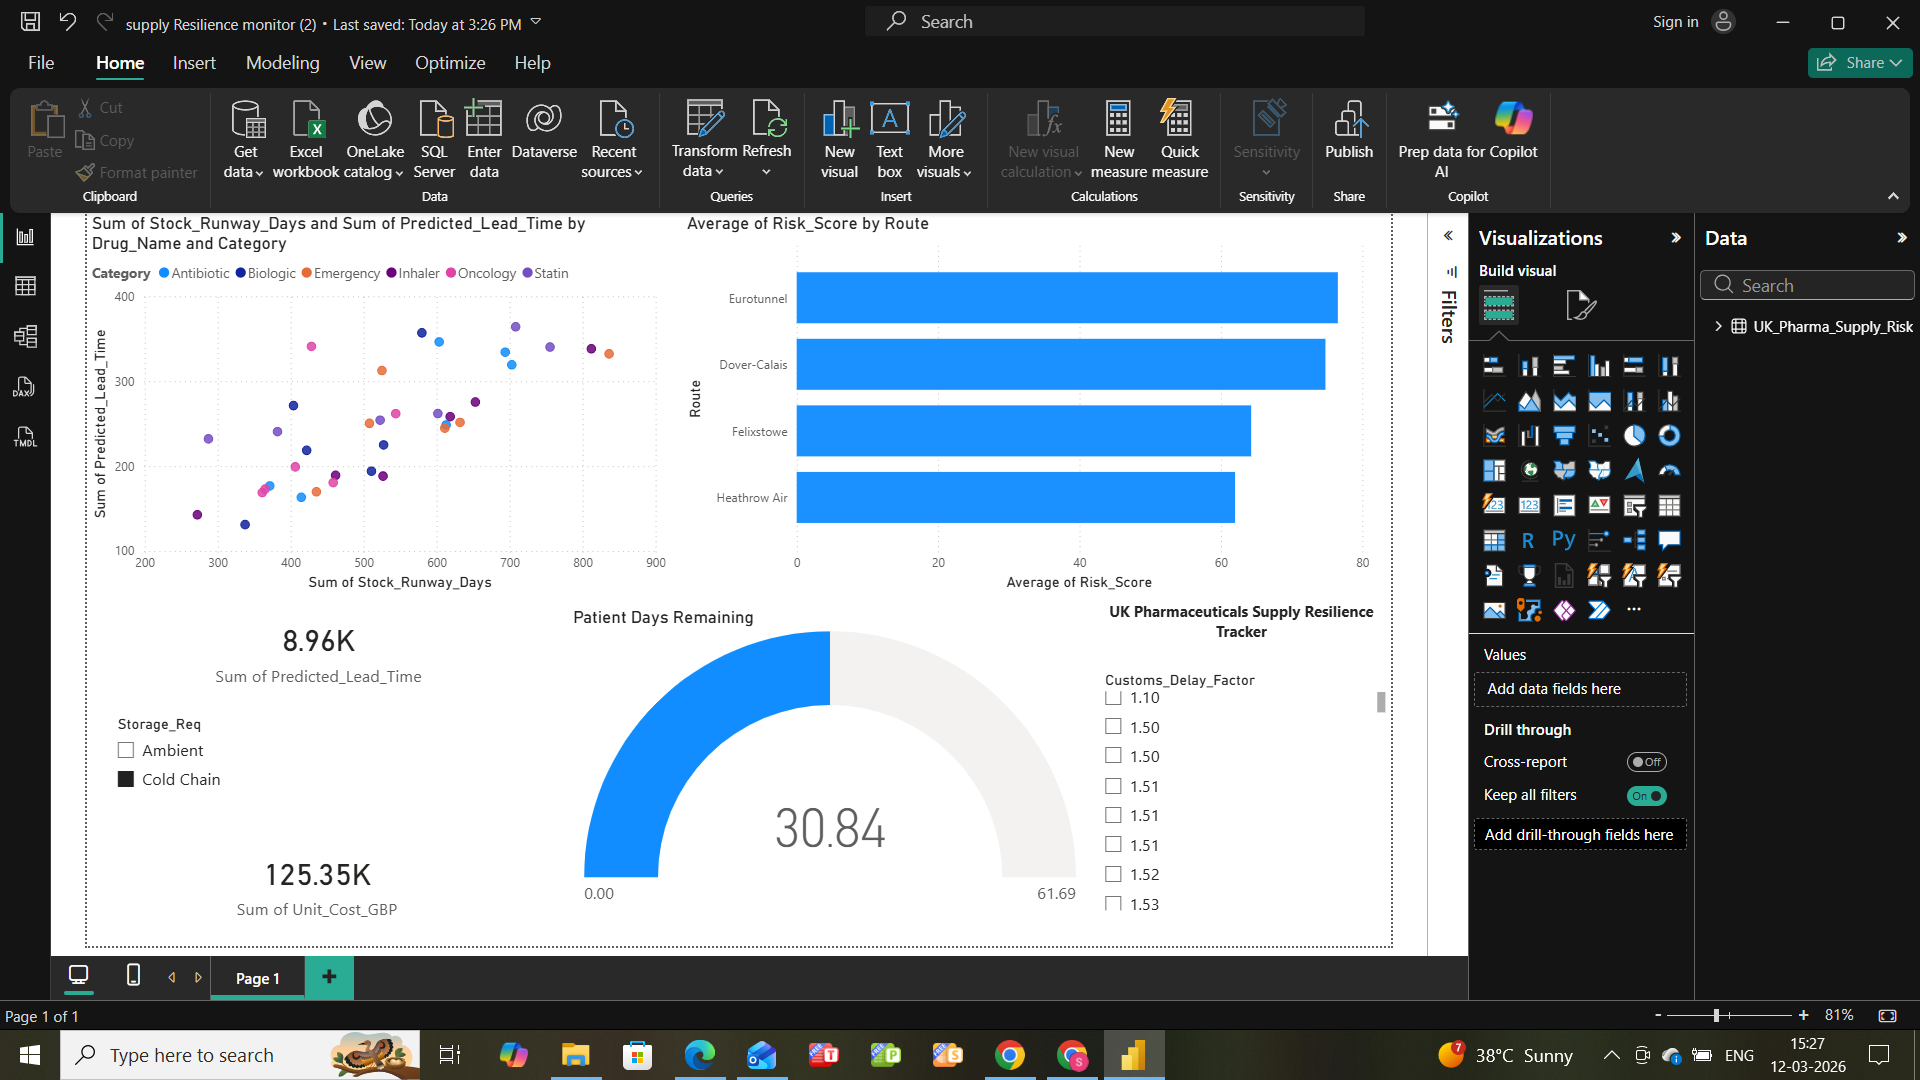

What the dashboard file says about the page in this screenshot:
{"tool":"powerbi","page":{"name":"Page 1","canvas":[1280,720],"ordinal":0},"visuals":[{"type":"scatterChart","fields":{"X":["Sum(UK_Pharma_Supply_Risk.Stock_Runway_Days)"],"Y":["Sum(UK_Pharma_Supply_Risk.Predicted_Lead_Time)"],"Category":["UK_Pharma_Supply_Risk.Drug_Name"],"Series":["UK_Pharma_Supply_Risk.Category"]},"box":[0,0,573.3,375.6],"z":0},{"type":"clusteredBarChart","fields":{"Y":["Avg(UK_Pharma_Supply_Risk.Risk_Score)"],"Category":["UK_Pharma_Supply_Risk.Route"]},"box":[584.4,0,680,375.6],"z":1000},{"type":"card","fields":{"Values":["Sum(UK_Pharma_Supply_Risk.Unit_Cost_GBP)"]},"box":[0,610,452.2,97.8],"z":2000},{"type":"card","fields":{"Values":["Sum(UK_Pharma_Supply_Risk.Predicted_Lead_Time)"]},"box":[3.3,375.6,447.8,107.8],"z":3000},{"type":"slicer","fields":{"Values":["UK_Pharma_Supply_Risk.Storage_Req"]},"box":[16.7,488.9,435.6,133.3],"z":4000},{"type":"gauge","fields":{"Y":["UK_Pharma_Supply_Risk.Patient Days Remaining"]},"box":[472.2,386.7,514.4,302.2],"z":5000},{"type":"textbox","box":[986.7,375.6,293.3,68.9],"z":6000},{"type":"slicer","fields":{"Values":["UK_Pharma_Supply_Risk.Customs_Delay_Factor"]},"box":[987,445,293,244],"z":6001}]}

Visuals, with their boxes on the page's 1280x720 design canvas (x1, y1, x2, y2). These are canvas units, not pixel positions in the 1920x1080 screenshot, which may show the page scaled, cropped or inside an application window:
scatterChart - Sum(UK_Pharma_Supply_Risk.Stock_Runway_Days) x Sum(UK_Pharma_Supply_Risk.Predicted_Lead_Time): region(0, 0, 573, 376)
clusteredBarChart - Avg(UK_Pharma_Supply_Risk.Risk_Score) x UK_Pharma_Supply_Risk.Route: region(584, 0, 1264, 376)
card - Sum(UK_Pharma_Supply_Risk.Unit_Cost_GBP): region(0, 610, 452, 708)
card - Sum(UK_Pharma_Supply_Risk.Predicted_Lead_Time): region(3, 376, 451, 483)
slicer - UK_Pharma_Supply_Risk.Storage_Req: region(17, 489, 452, 622)
gauge - UK_Pharma_Supply_Risk.Patient Days Remaining: region(472, 387, 987, 689)
textbox: region(987, 376, 1280, 444)
slicer - UK_Pharma_Supply_Risk.Customs_Delay_Factor: region(987, 445, 1280, 689)
